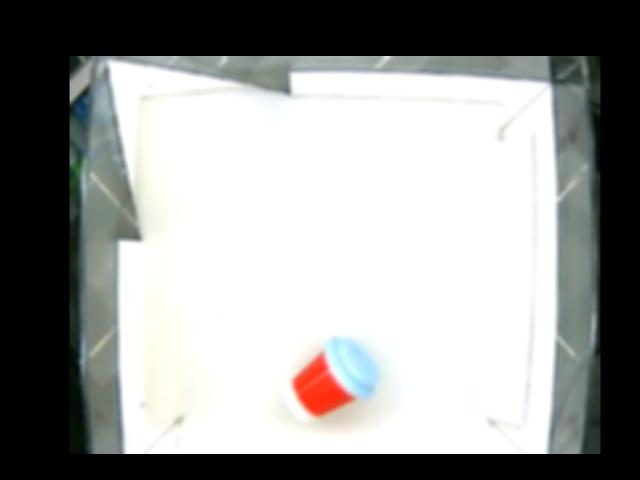Cup: (284, 335, 379, 420)
